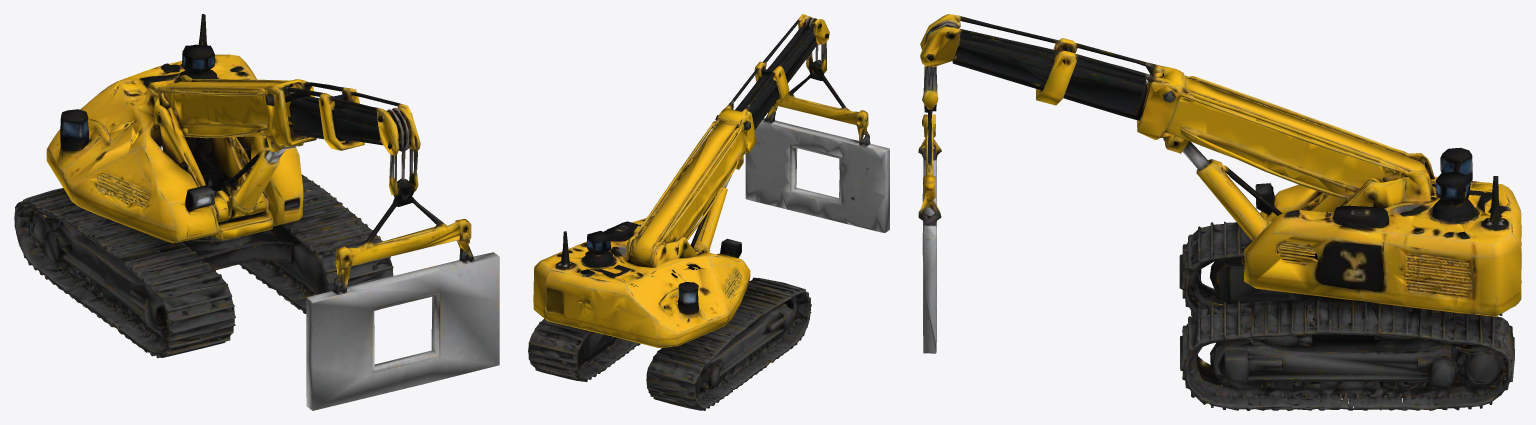
The model's file is crane-standard.glb.
The picture shows the model from 3 angles, left to right: view 1: azimuth 30°, elevation 25°; view 2: azimuth 150°, elevation 25°; view 3: azimuth 270°, elevation 25°; orthographic projection. The views are drawn at different scales.
Visible parts, largest first — view 1: geometry_0; view 2: geometry_0; view 3: geometry_0.
Part boxes in pixels (x1,y1,x2,y2): geometry_0: (14,14,499,410); geometry_0: (528,14,889,410); geometry_0: (918,14,1521,410).
Bounding box in the file's own units: 0.452 × 0.6129 × 1.
Materials: 1 (1 with a texture image).
